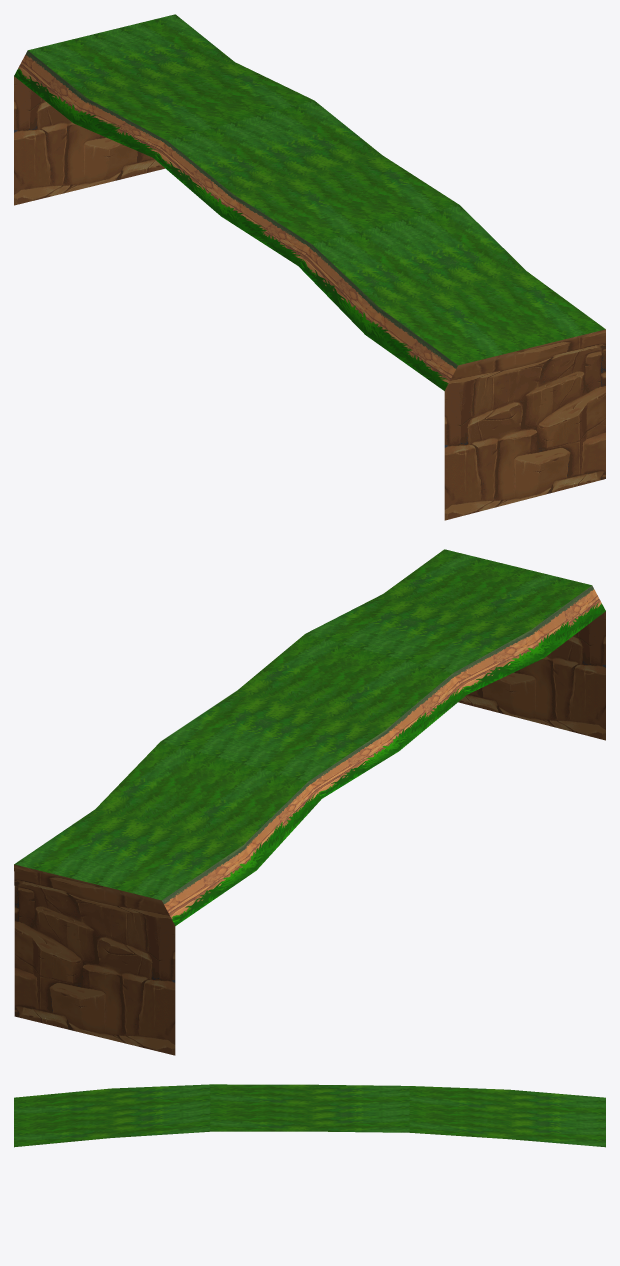
File: wall01.FBX
3 views of the same model, one above another, from view 1: azimuth 30°, elevation 25°; view 2: azimuth 150°, elevation 25°; view 3: azimuth 270°, elevation 25° (orthographic). The views are drawn at different scales.
Parts seen in each view (by area): view 1: wall01; view 2: wall01; view 3: wall01.
Boxes of the visible parts, x1,y1,x2,y2 form: wall01: [14, 14, 605, 520]; wall01: [14, 549, 605, 1055]; wall01: [14, 1084, 605, 1147].
Bounding box in the file's own units: 59.28 × 56.75 × 256.
